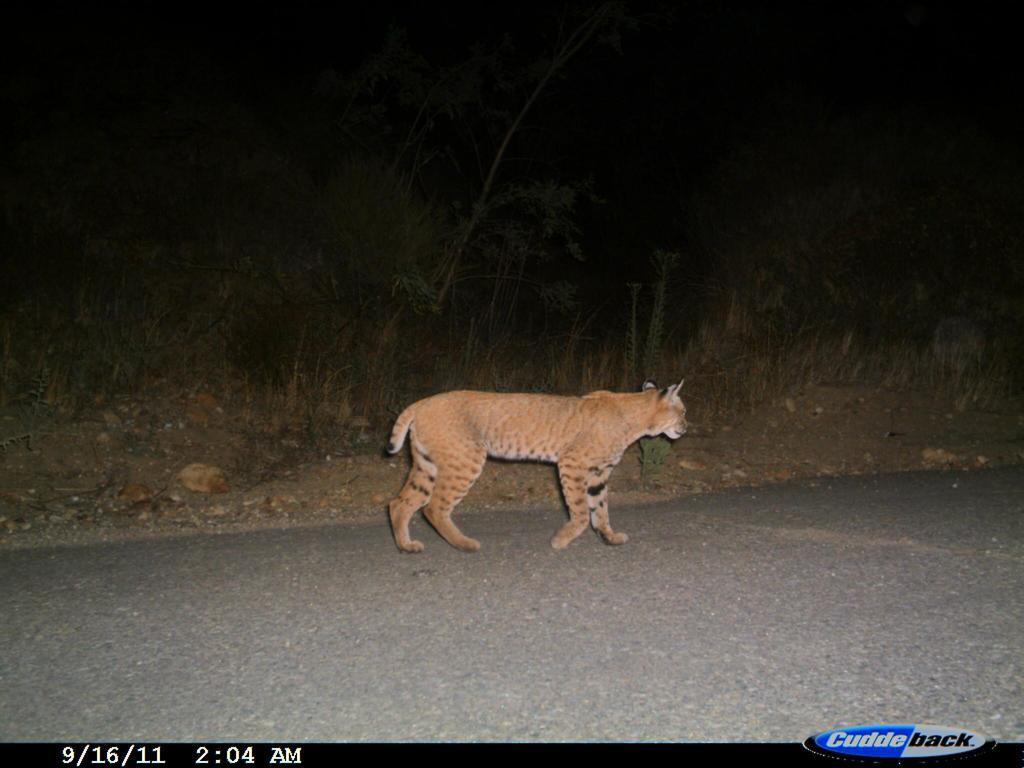bobcat: (383, 377, 696, 556)
